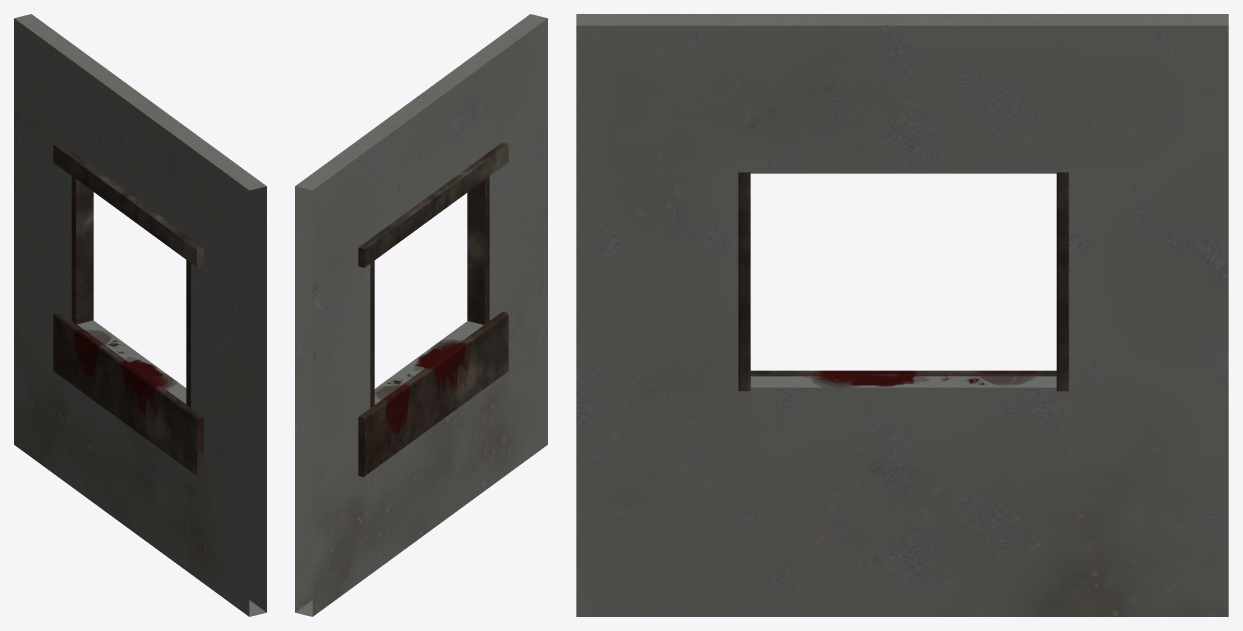
The model's file is Wall_Window.fbx.
The picture shows the model from 3 angles, left to right: view 1: azimuth 30°, elevation 25°; view 2: azimuth 150°, elevation 25°; view 3: azimuth 270°, elevation 25°; orthographic projection. The views are drawn at different scales.
Parts seen in each view (by area): view 1: Wall_Window; view 2: Wall_Window; view 3: Wall_Window.
Boxes of the visible parts, x1,y1,x2,y2 form: Wall_Window: [14, 14, 266, 616]; Wall_Window: [295, 14, 547, 616]; Wall_Window: [576, 14, 1228, 616].
Size of the model in its own units: 12.1 by 200 by 200.
